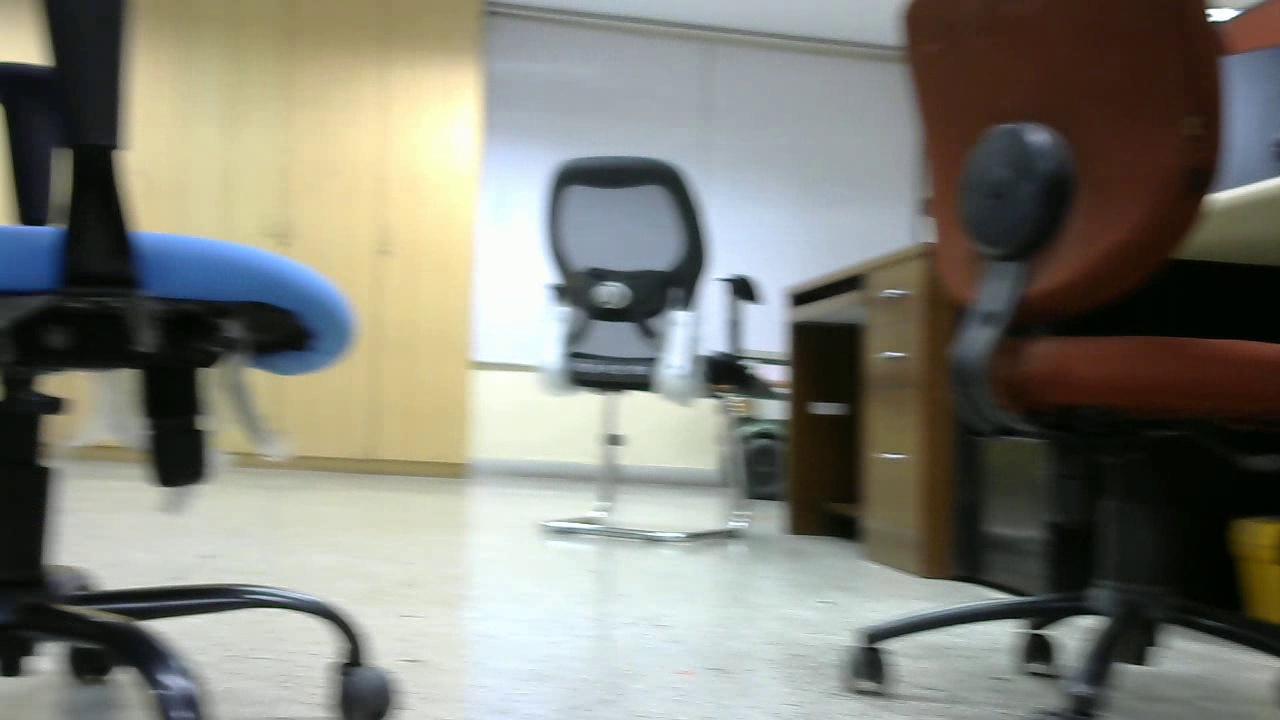chair: (852, 5, 1280, 720), (543, 139, 760, 562)
